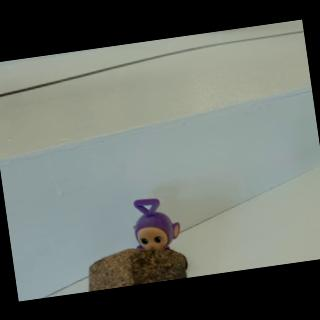teletubby: (133, 198, 178, 249)
